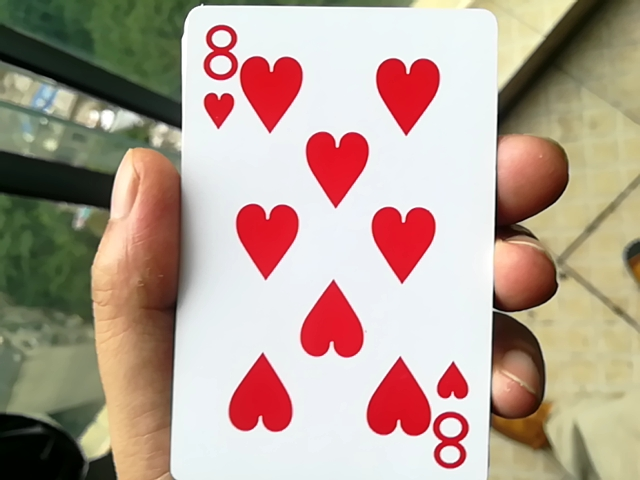hx 8: (148, 0, 493, 475)
